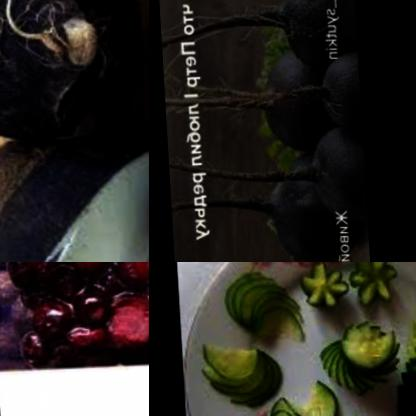beet: (0, 262, 149, 373)
cucumber: (311, 311, 402, 404), (197, 338, 293, 415), (294, 262, 401, 325), (372, 276, 416, 416), (220, 267, 306, 338), (258, 386, 347, 416)
redka: (0, 0, 139, 145), (0, 129, 149, 262), (259, 150, 358, 262), (255, 50, 332, 160), (263, 0, 355, 73), (303, 126, 362, 227), (316, 51, 358, 129)
